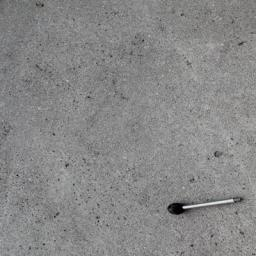FOD: (165, 195, 246, 218)
